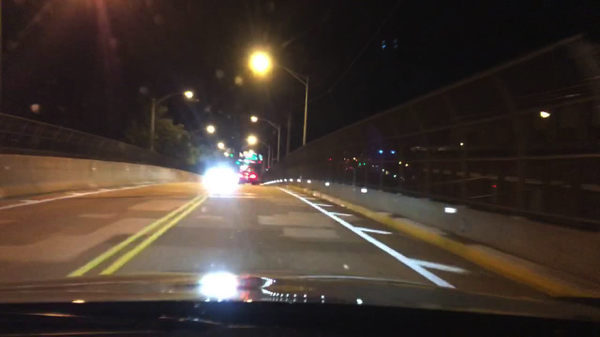car: (202, 168, 236, 188), (238, 170, 260, 184)
traffic light: (235, 160, 241, 168), (229, 152, 235, 158), (253, 155, 257, 161)
